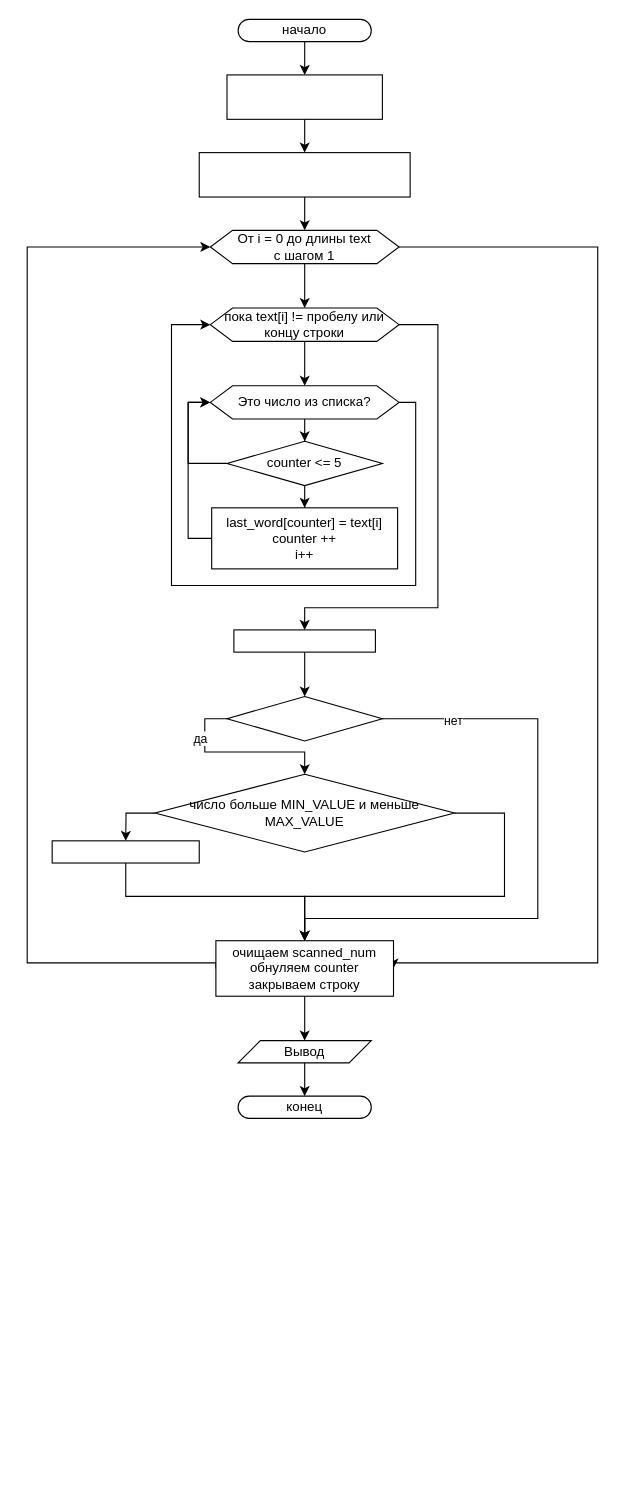
Some shapes in this 626 by 1491 pixel diagram are drawn without their labels. The shapes that lost their labels are listed below. From the top down, each one's centre as x and y in pixels, then its label:
At pixel 304 96: "Переменные text, counter, last_word".
At pixel 304 174: "Список цифр ввиде char массива".
At pixel 304 640: "Закрываем строку \0".
At pixel 304 718: "строка удчано считалась".
At pixel 125 851: "result += scanned_num".
